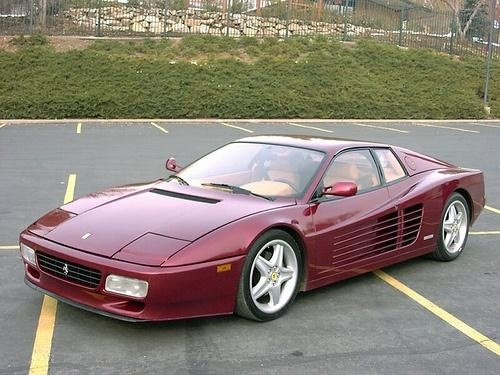car: (19, 134, 488, 324)
